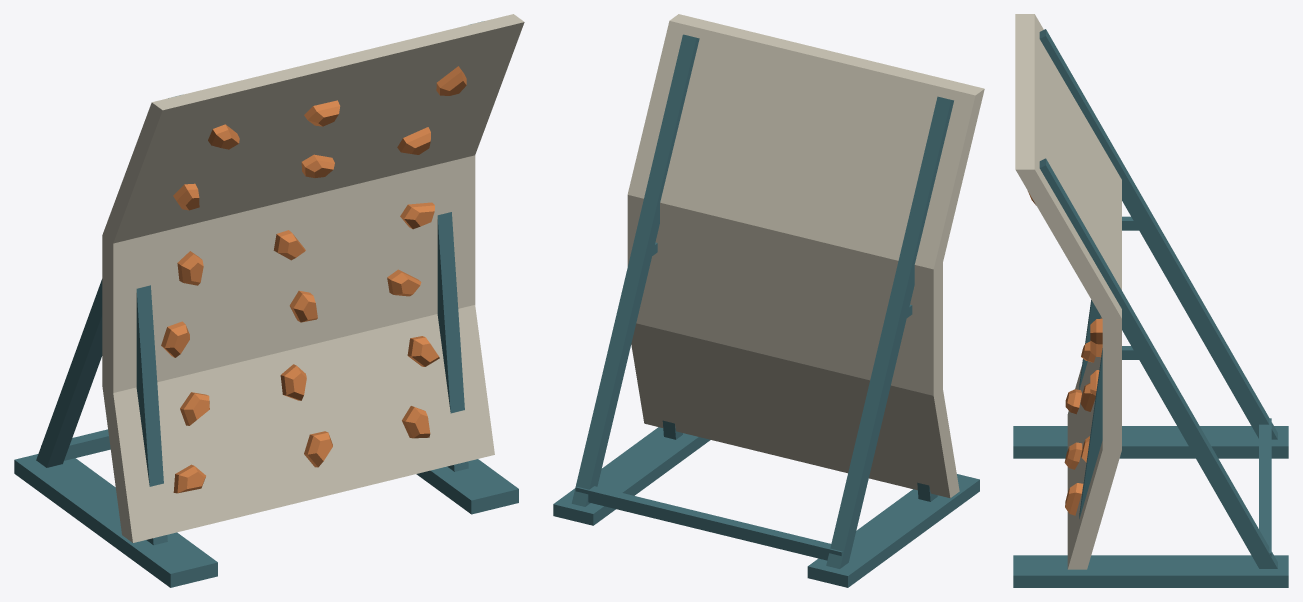
The picture shows the model from 3 angles, left to right: view 1: azimuth 30°, elevation 25°; view 2: azimuth 150°, elevation 25°; view 3: azimuth 270°, elevation 25°; orthographic projection. The views are drawn at different scales.
Parts seen in each view (by area): view 1: WholeContinuousSlabVerticalAndOverhangWall, LeftWholeLongGroundShoe, LeftWholeFullRearDiagonal, RightWholeNearWallUpright, LeftWholeNearWallUpright, RightWholeLongGroundShoe, WholeLowRearCrossTie, WholeFacetedWallHold_02_02, WholeFacetedWallHold_01_02, WholeFacetedWallHold_03_01, WholeFacetedWallHold_01_03, WholeFacetedWallHold_04_01 (+7 smaller); view 2: WholeContinuousSlabVerticalAndOverhangWall, LeftWholeFullRearDiagonal, RightWholeFullRearDiagonal, LeftWholeLongGroundShoe, RightWholeLongGroundShoe, WholeLowRearCrossTie; view 3: WholeContinuousSlabVerticalAndOverhangWall, RightWholeLongGroundShoe, RightWholeFullRearDiagonal, LeftWholeFullRearDiagonal, LeftWholeLongGroundShoe, WholeLowRearCrossTie, RightWholeNearWallUpright, WholeFacetedWallHold_01_03, LeftWholeNearWallUpright.
Part boxes in pixels (x1=…): WholeContinuousSlabVerticalAndOverhangWall: x1=102, y1=14, x2=524, y2=542; LeftWholeLongGroundShoe: x1=14, y1=454, x2=217, y2=587; LeftWholeFullRearDiagonal: x1=36, y1=95, x2=180, y2=467; RightWholeNearWallUpright: x1=437, y1=212, x2=468, y2=471; LeftWholeNearWallUpright: x1=136, y1=285, x2=167, y2=545; RightWholeLongGroundShoe: x1=416, y1=459, x2=518, y2=514; WholeLowRearCrossTie: x1=64, y1=429, x2=110, y2=460; WholeFacetedWallHold_02_02: x1=280, y1=364, x2=306, y2=400; WholeFacetedWallHold_01_02: x1=304, y1=431, x2=332, y2=467; WholeFacetedWallHold_03_01: x1=161, y1=321, x2=189, y2=357; WholeFacetedWallHold_01_03: x1=402, y1=406, x2=430, y2=438; WholeFacetedWallHold_04_01: x1=177, y1=251, x2=203, y2=285; WholeContinuousSlabVerticalAndOverhangWall: x1=627, y1=14, x2=984, y2=498; LeftWholeFullRearDiagonal: x1=826, y1=96, x2=953, y2=568; RightWholeFullRearDiagonal: x1=571, y1=34, x2=699, y2=506; LeftWholeLongGroundShoe: x1=807, y1=474, x2=979, y2=587; RightWholeLongGroundShoe: x1=553, y1=427, x2=710, y2=525; WholeLowRearCrossTie: x1=575, y1=486, x2=842, y2=560; WholeContinuousSlabVerticalAndOverhangWall: x1=1015, y1=14, x2=1121, y2=569; RightWholeLongGroundShoe: x1=1013, y1=555, x2=1288, y2=587; RightWholeFullRearDiagonal: x1=1039, y1=158, x2=1277, y2=568; LeftWholeFullRearDiagonal: x1=1039, y1=29, x2=1277, y2=439; LeftWholeLongGroundShoe: x1=1013, y1=426, x2=1288, y2=458; WholeLowRearCrossTie: x1=1259, y1=418, x2=1271, y2=556; RightWholeNearWallUpright: x1=1079, y1=348, x2=1102, y2=518; WholeFacetedWallHold_01_03: x1=1065, y1=483, x2=1083, y2=515; LeftWholeNearWallUpright: x1=1079, y1=300, x2=1100, y2=389.
Bounding box in the file's own units: 1.9 × 2.4 × 1.42.
